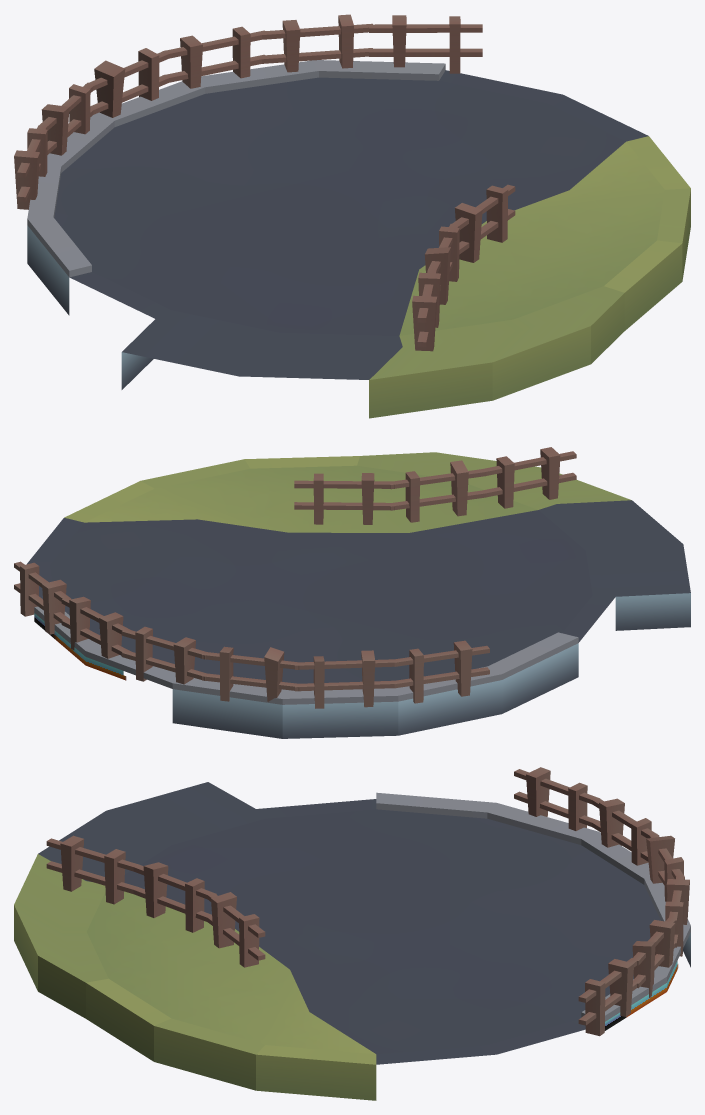
Rendered from Ground.fbx.
3 views of the same model, one above another, from view 1: azimuth 30°, elevation 25°; view 2: azimuth 150°, elevation 25°; view 3: azimuth 270°, elevation 25° (orthographic). The views are drawn at different scales.
Visible parts, largest first — view 1: Ground.002; view 2: Ground.002; view 3: Ground.002.
Part boxes in pixels (x1,y1,x2,y2): Ground.002: [14, 14, 690, 418]; Ground.002: [14, 447, 690, 738]; Ground.002: [14, 767, 690, 1100].
Bounding box in the file's own units: 6.88 × 0.9742 × 6.95.
